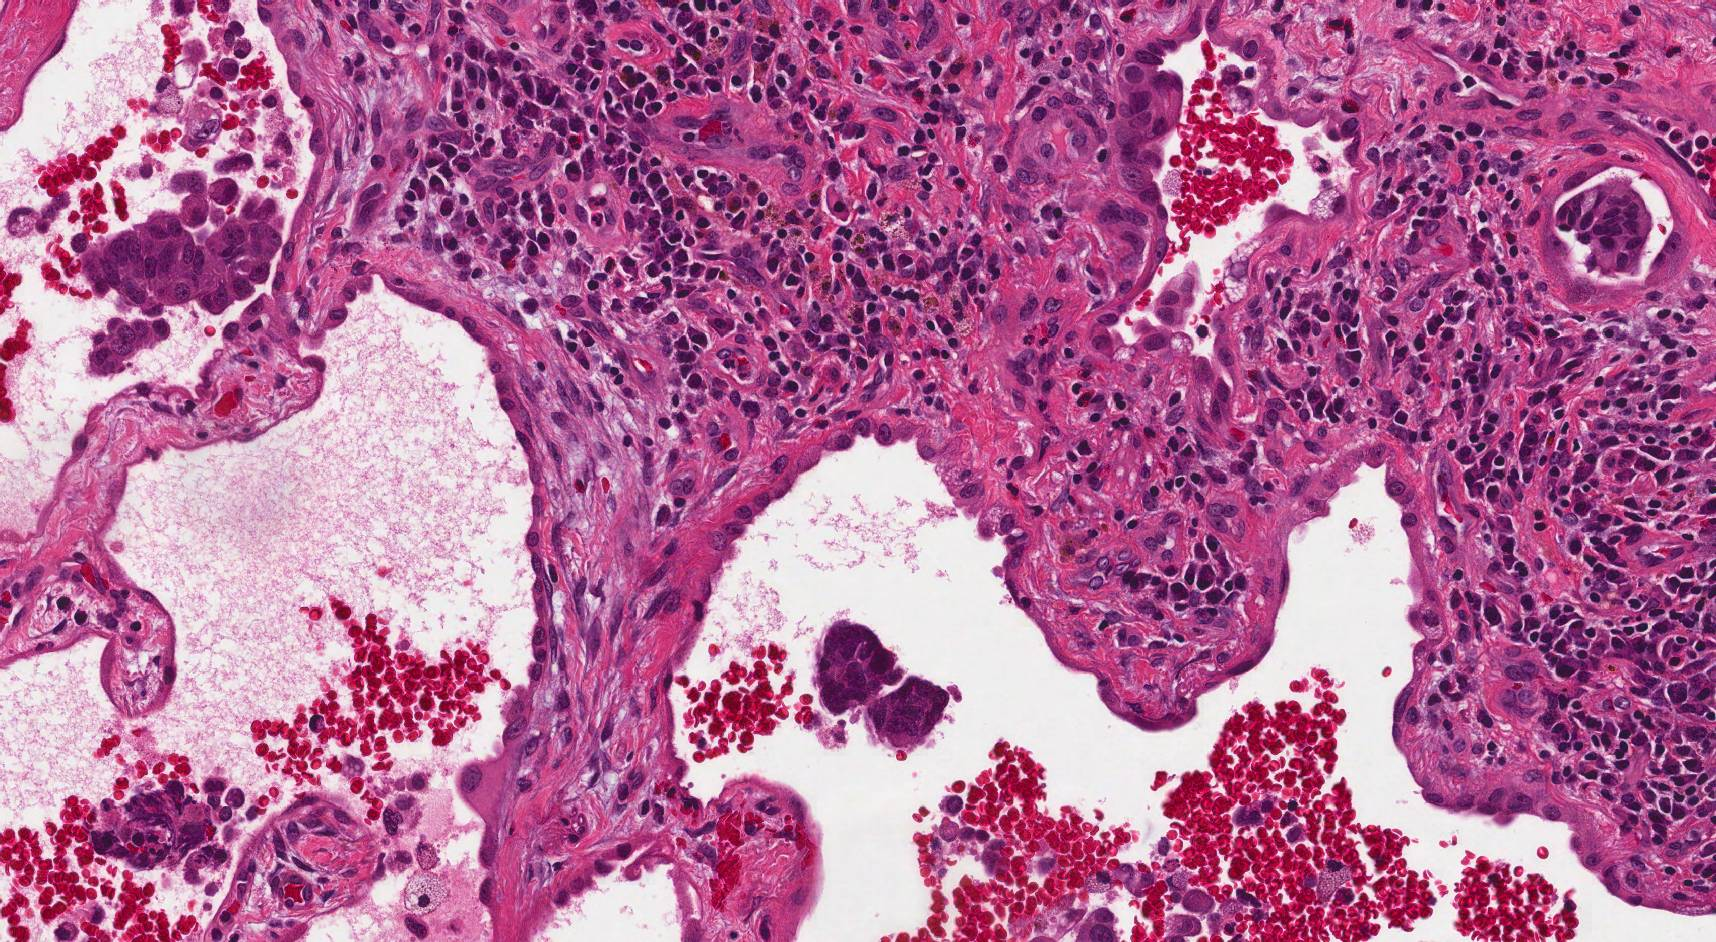stas: (84, 213, 283, 316), (817, 618, 949, 747), (90, 778, 246, 876), (1556, 174, 1656, 278), (88, 318, 171, 376)
